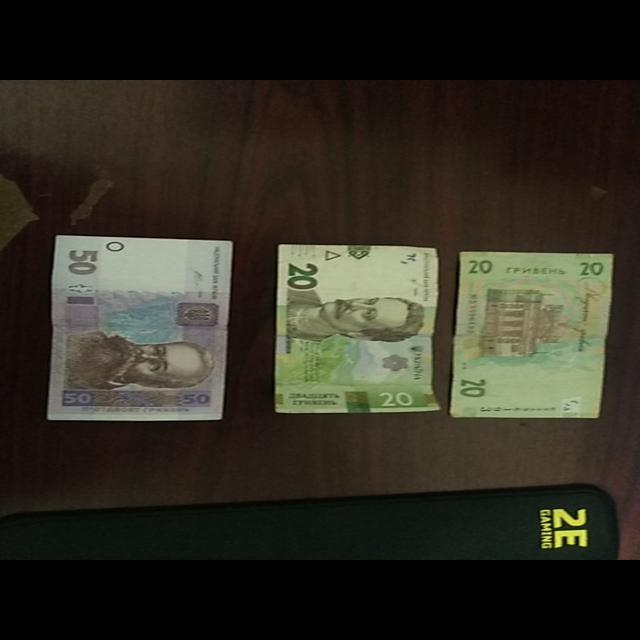20uah: (274, 243, 442, 417), (457, 245, 607, 418)
50uah: (38, 228, 232, 420)
